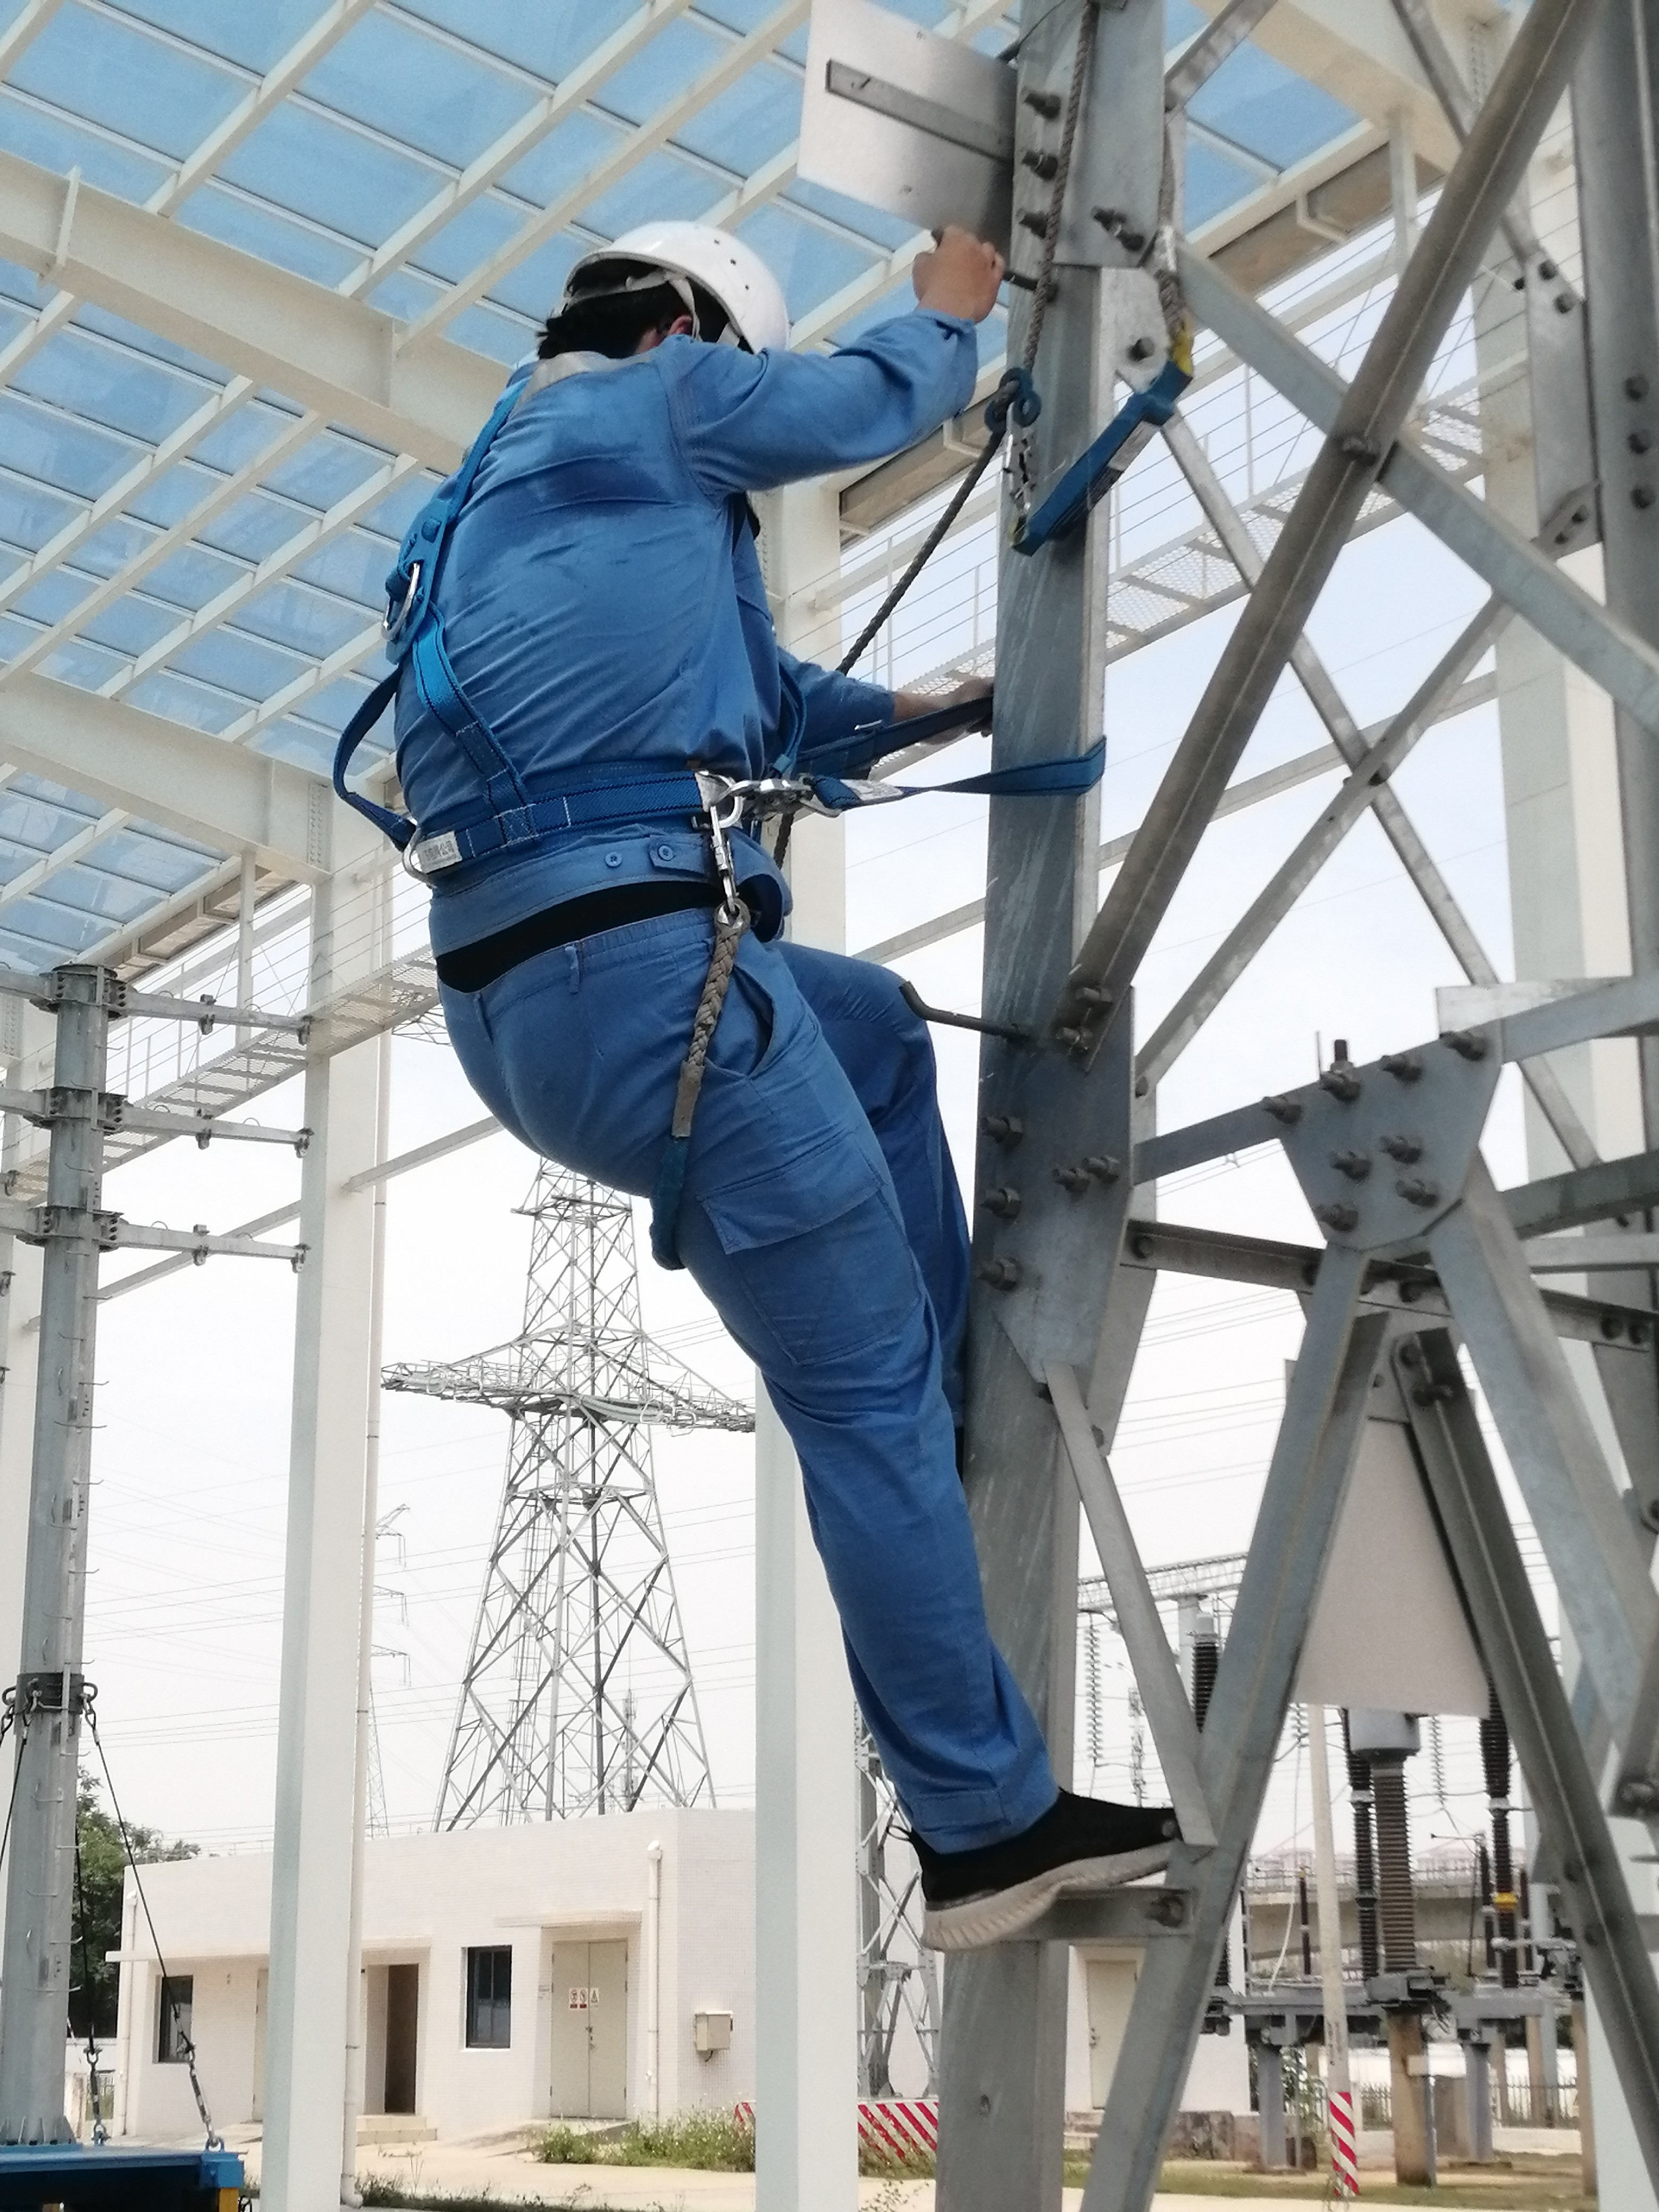downsuit: (465, 923, 1079, 1848)
upsuit: (382, 317, 972, 857)
